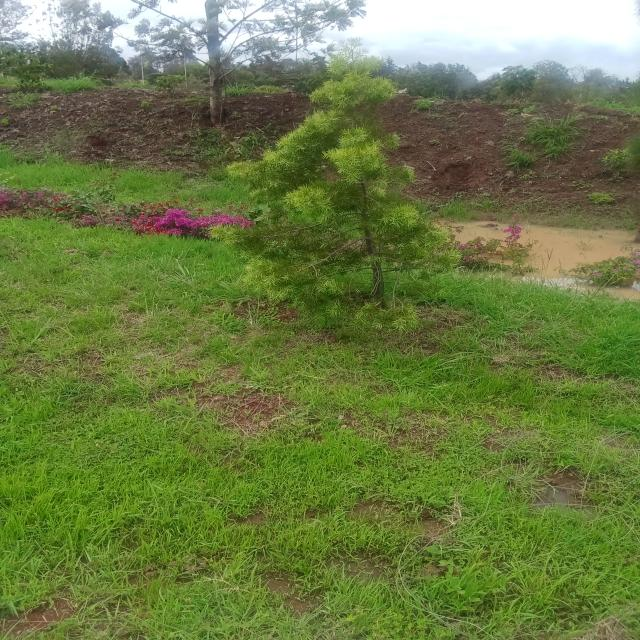Podocarpus falcatus: (228, 49, 457, 335)
